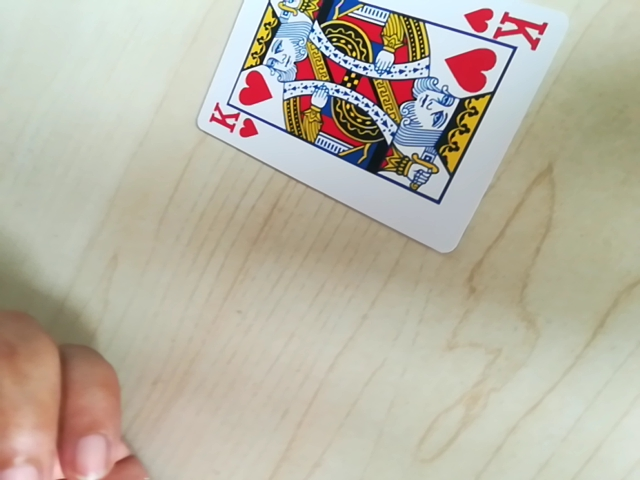hx k: (461, 5, 551, 47), (203, 105, 260, 142)
